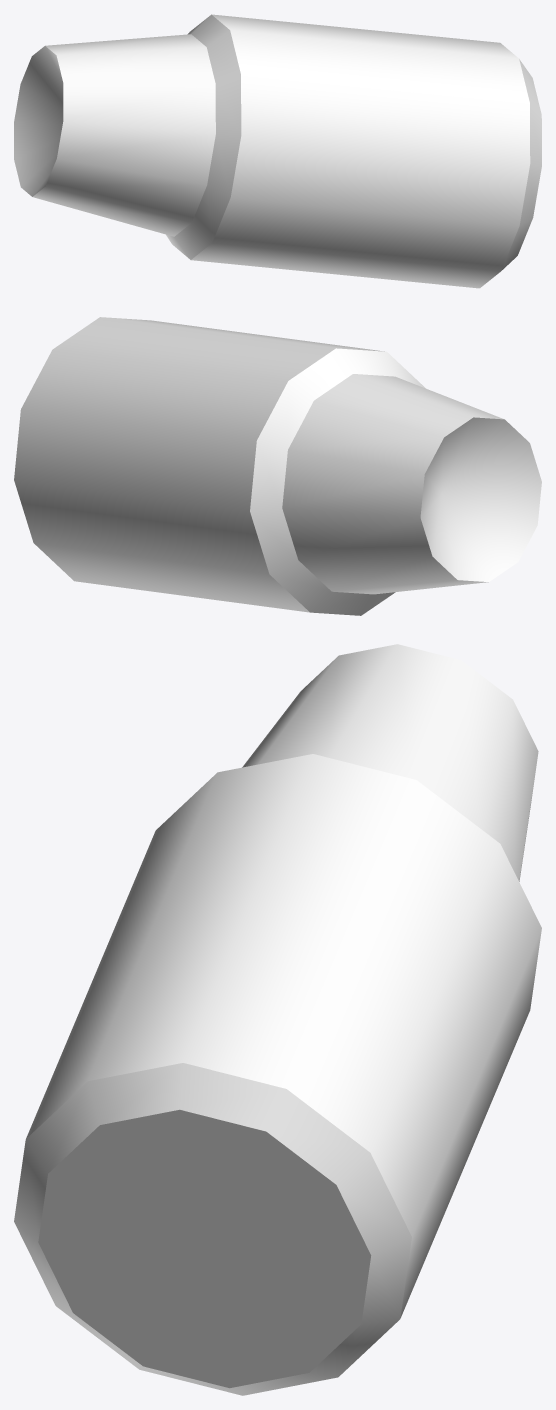
The model's file is ama_collectable_scrap_07.glb.
The picture shows the model from 3 angles, top to bottom: view 1: azimuth 30°, elevation 25°; view 2: azimuth 150°, elevation 25°; view 3: azimuth 270°, elevation 25°; orthographic projection. The views are drawn at different scales.
Parts seen in each view (by area): view 1: shipScrapPart_07; view 2: shipScrapPart_07; view 3: shipScrapPart_07.
Part boxes in pixels (x1=…): shipScrapPart_07: x1=14, y1=14, x2=541, y2=288; shipScrapPart_07: x1=14, y1=317, x2=541, y2=615; shipScrapPart_07: x1=14, y1=644, x2=541, y2=1395.
Bounding box in the file's own units: 1.58 × 0.9151 × 0.9331.
1 material, 1 textured.
